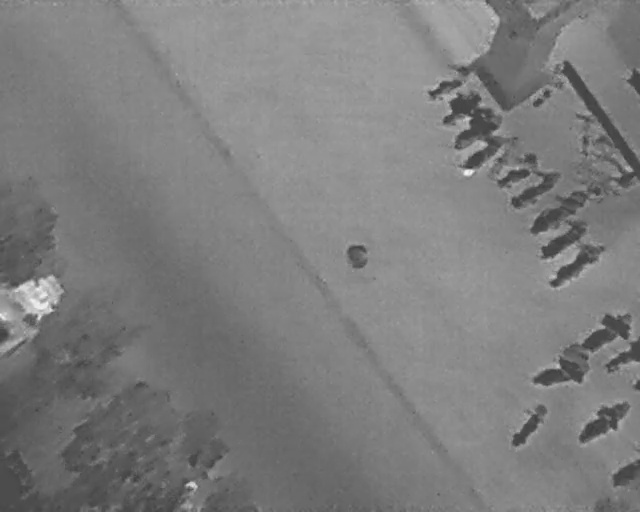Bicycle: (535, 229, 614, 295), (520, 176, 596, 241), (522, 341, 598, 399), (569, 389, 638, 451), (573, 300, 639, 363), (448, 122, 511, 185), (529, 209, 596, 266), (441, 102, 508, 157), (499, 394, 557, 455), (502, 162, 567, 214), (487, 147, 545, 195), (431, 82, 488, 130), (479, 131, 527, 184), (420, 68, 467, 107), (603, 338, 639, 373), (610, 458, 639, 491)
Car: (0, 265, 65, 357)
